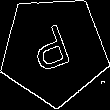P_S: (28, 20, 80, 81)
